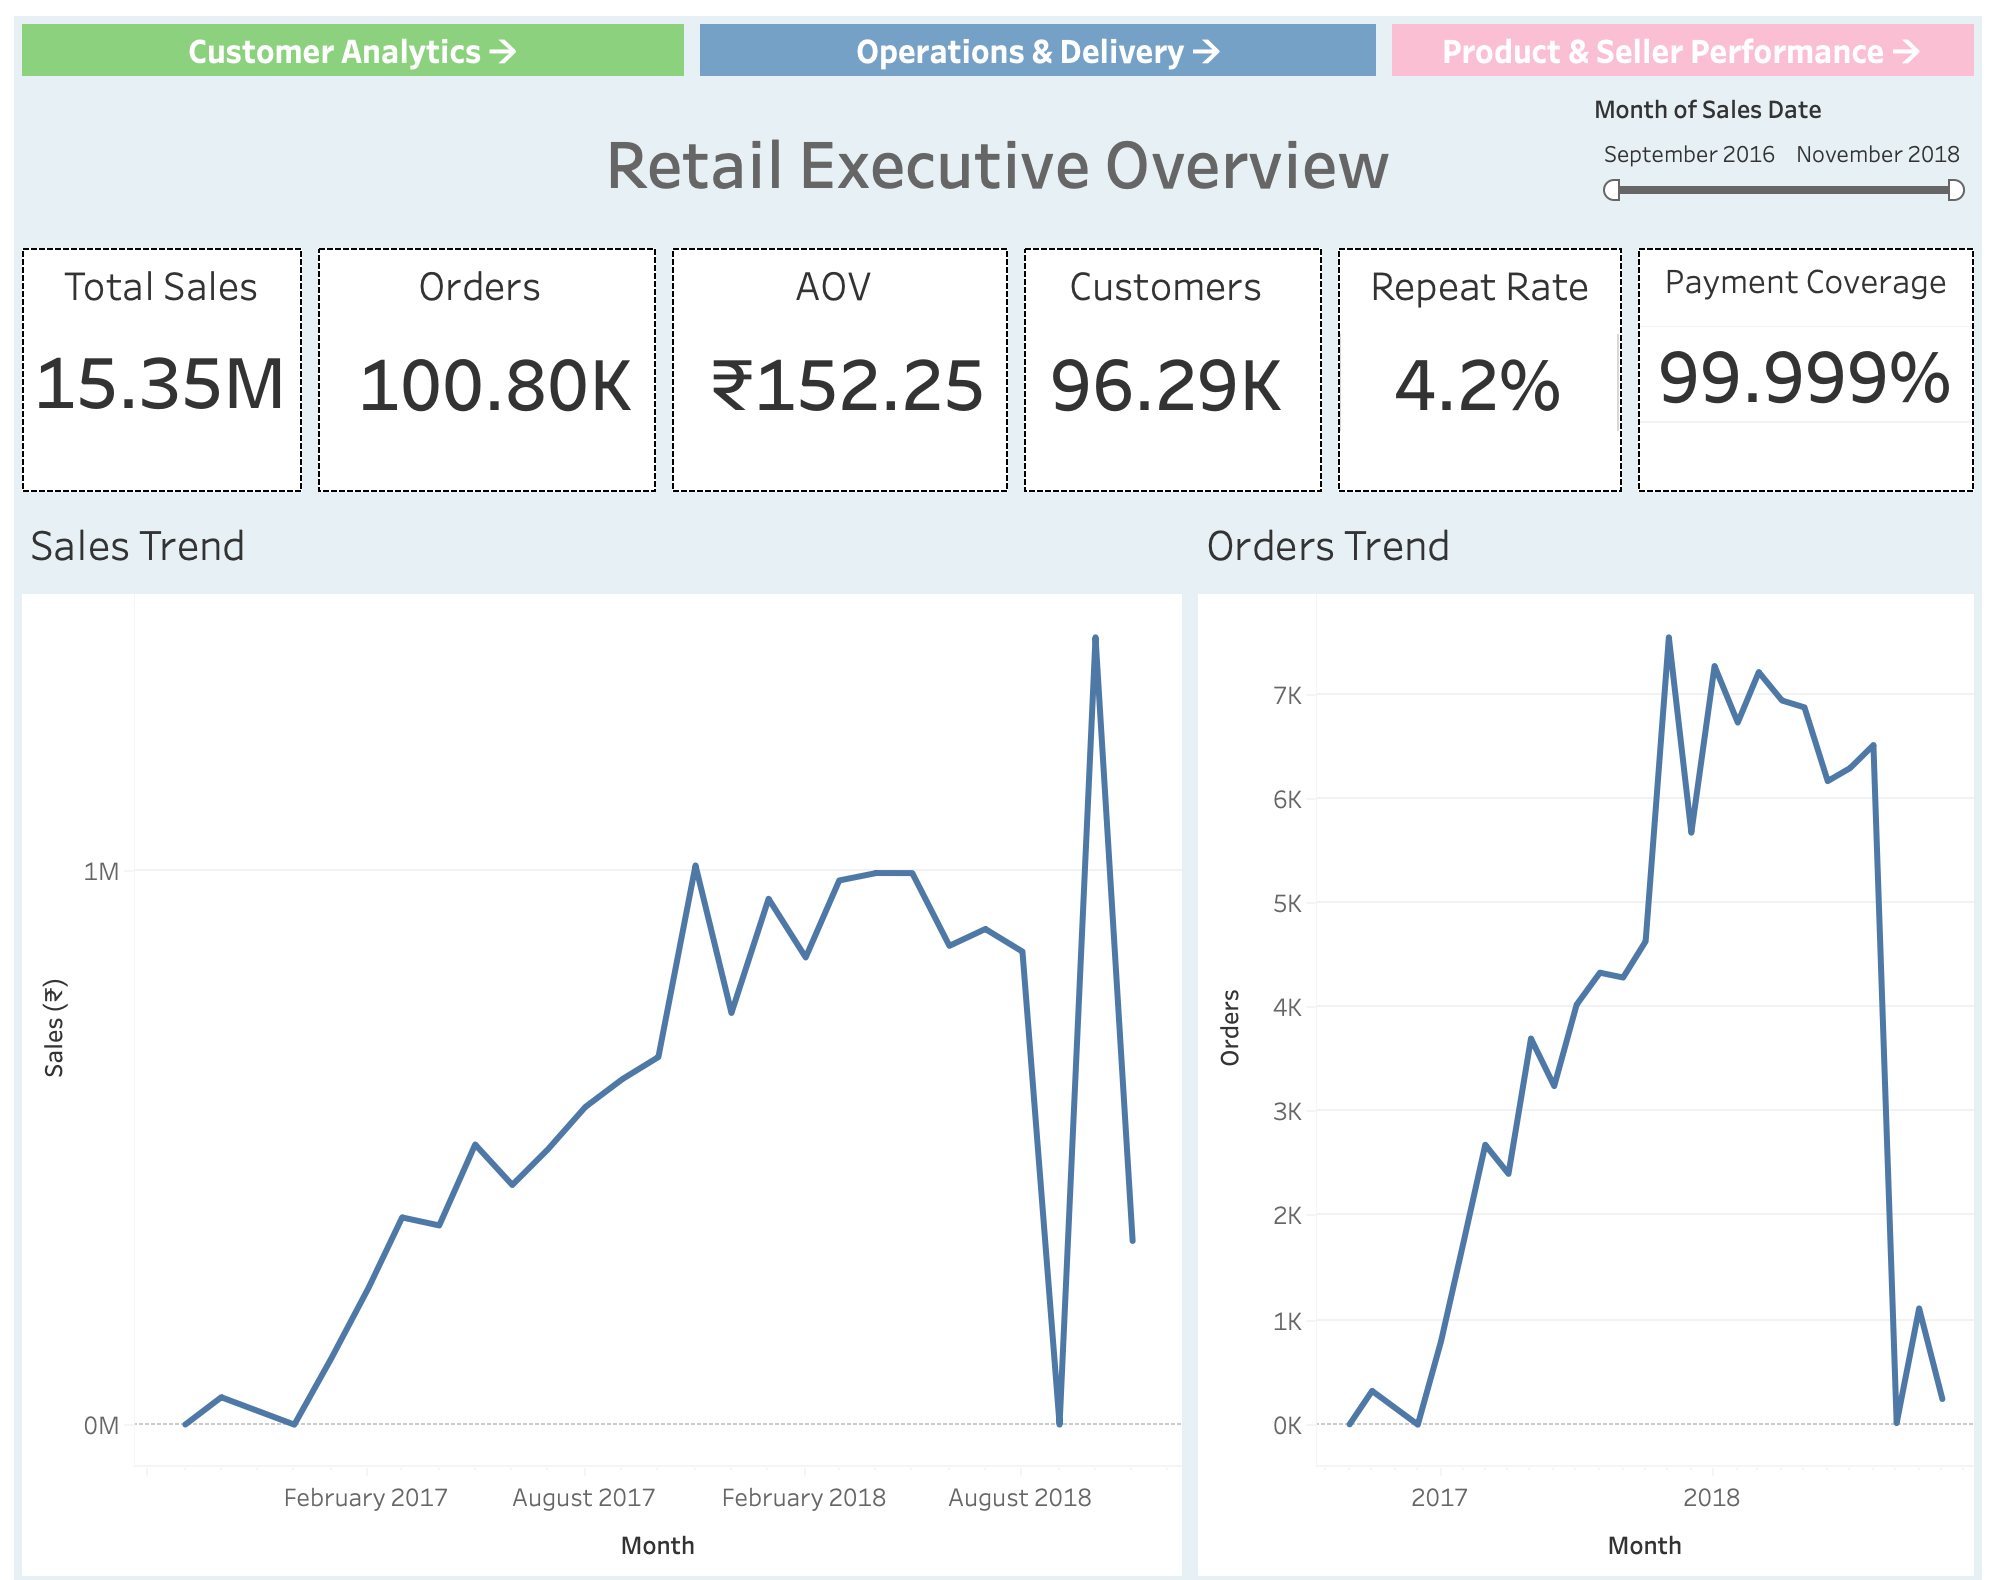

This screenshot's page, from the dashboard's own definition file:
{"tool":"tableau","page":{"name":"Retail Executive Overview","canvas":[1000,800],"ordinal":3},"visuals":[{"type":"dashboard-object","box":[8,8,339,34]},{"type":"dashboard-object","box":[347,8,346,34]},{"type":"dashboard-object","box":[693,8,299,34]},{"type":"text","box":[8,42,984,78]},{"type":"filter","title":"Sales Trend","param":"[federated.1os7mm00tznfdi1afrr061m3dccr].[tmn:sales_date:qk]","box":[798,46,190,69]},{"type":"worksheet","title":"KPI - Total Sales","mark":"Automatic","box":[8,120,148,130]},{"type":"worksheet","title":"Orders","mark":"Automatic","box":[156,120,177,130]},{"type":"worksheet","title":"AOV","mark":"Automatic","box":[333,120,176,130]},{"type":"worksheet","title":"Customers","mark":"Automatic","box":[509,120,157,130]},{"type":"worksheet","title":"Repeat Rate","mark":"Automatic","box":[666,120,150,130]},{"type":"worksheet","title":"Payment Coverage","mark":"Automatic","box":[816,120,176,130]},{"type":"worksheet","title":"Sales Trend","mark":"Line","rows":["total_sales"],"cols":["sales_date"],"box":[8,250,588,542]},{"type":"worksheet","title":"Orders Trend","mark":"Automatic","rows":["total_orders"],"cols":["sales_date"],"box":[596,250,396,542]}]}

Visuals, with their boxes in screenshot pixels (x1, y1, x2, y2), scaled from the page's 1000x800 canvas onto the 1992x1580 screenshot:
dashboard-object: [left=16, top=16, right=691, bottom=83]
dashboard-object: [left=691, top=16, right=1380, bottom=83]
dashboard-object: [left=1380, top=16, right=1976, bottom=83]
text: [left=16, top=83, right=1976, bottom=237]
"Sales Trend" filter: [left=1590, top=91, right=1968, bottom=227]
"KPI - Total Sales" worksheet: [left=16, top=237, right=311, bottom=494]
"Orders" worksheet: [left=311, top=237, right=663, bottom=494]
"AOV" worksheet: [left=663, top=237, right=1014, bottom=494]
"Customers" worksheet: [left=1014, top=237, right=1327, bottom=494]
"Repeat Rate" worksheet: [left=1327, top=237, right=1625, bottom=494]
"Payment Coverage" worksheet: [left=1625, top=237, right=1976, bottom=494]
"Sales Trend" worksheet (Line marks): [left=16, top=494, right=1187, bottom=1564]
"Orders Trend" worksheet: [left=1187, top=494, right=1976, bottom=1564]
